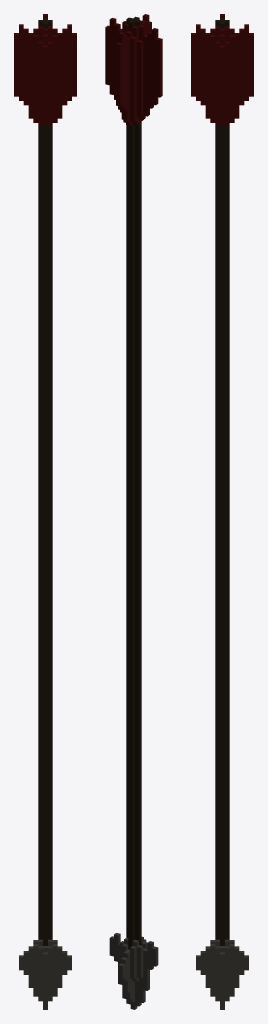
Rendered from Arrow_Broadhead_Iron_Large.obj.
3 views of the same model, side by side, from view 1: azimuth 90°, elevation 25°; view 2: azimuth 150°, elevation 25°; view 3: azimuth 270°, elevation 25° (orthographic).
Size of the model in its own units: 1.3 by 22.5 by 1.3.
Materials: 1 (1 with a texture image).
